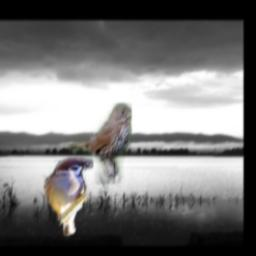Sparrow: (69, 103, 133, 184), (44, 158, 94, 237)
